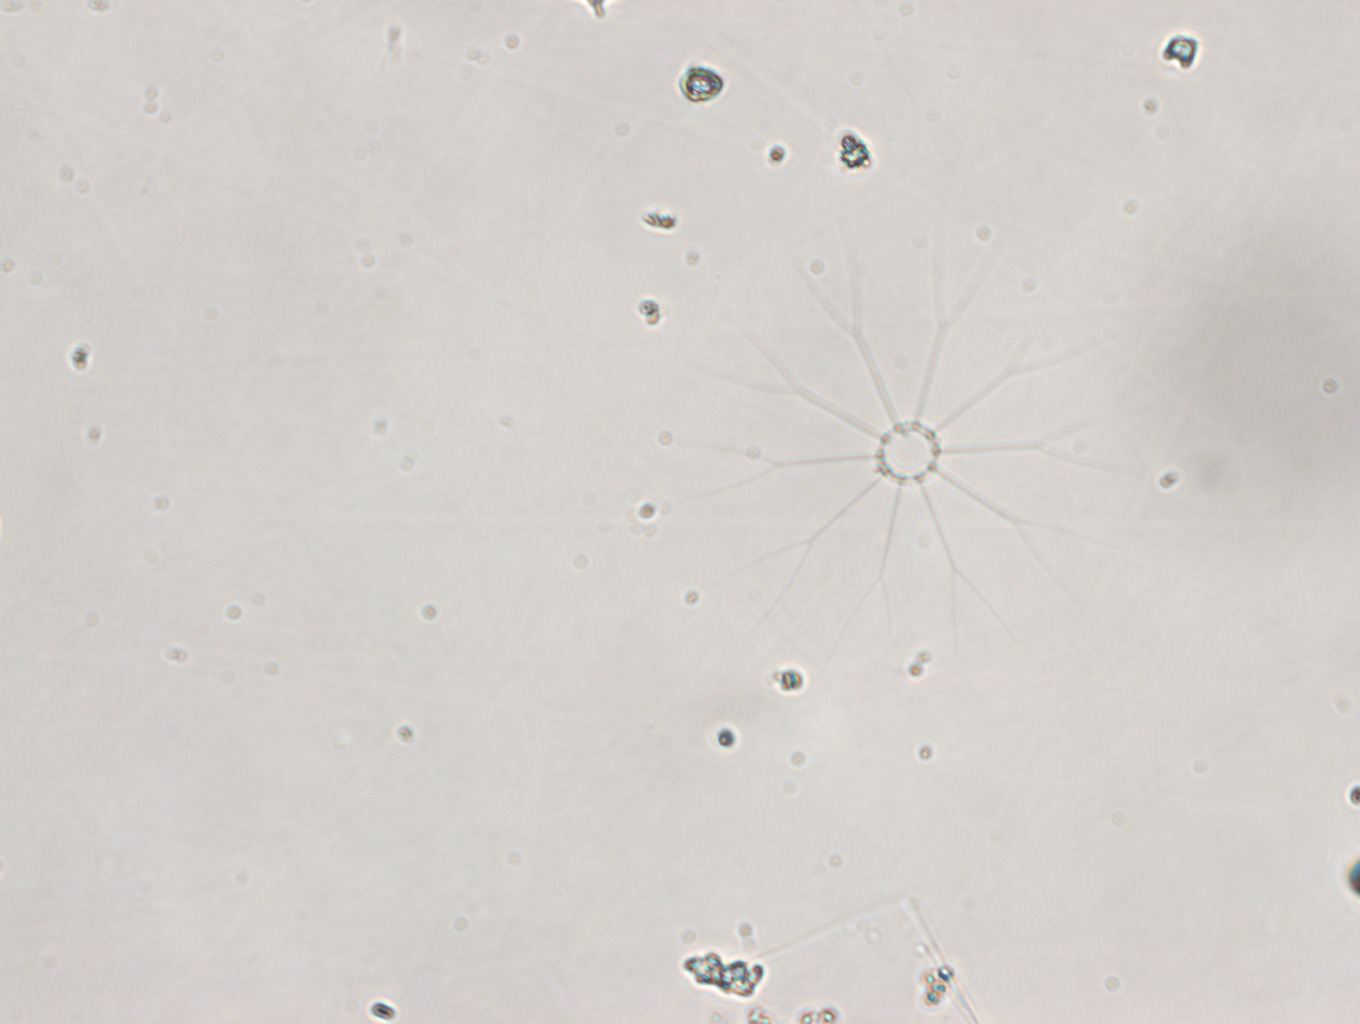bacteriastrum: (681, 229, 1149, 637)
